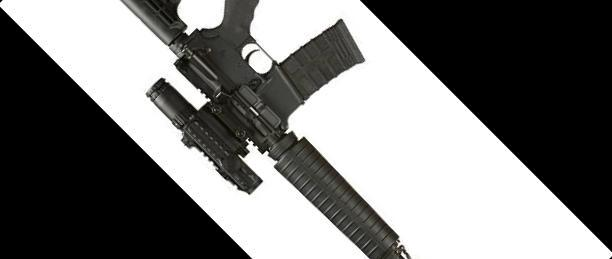larga: (120, 1, 412, 259)
